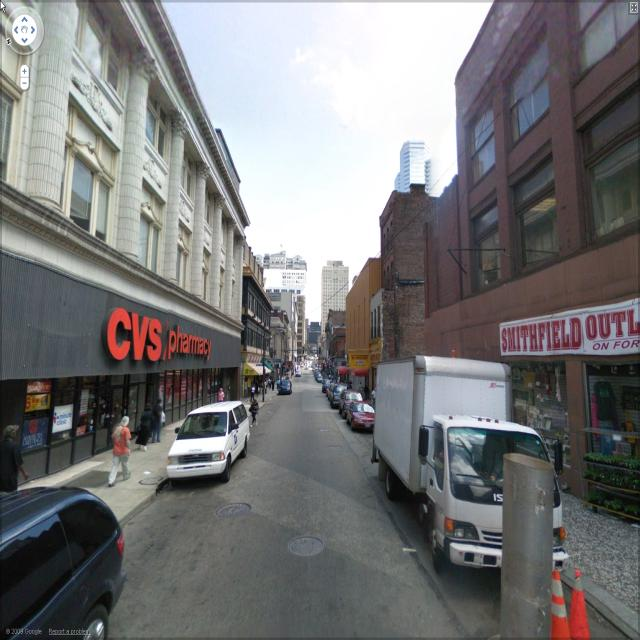b_1: (465, 3, 640, 502), (1, 6, 242, 325), (425, 174, 471, 384), (347, 253, 391, 407), (309, 247, 353, 344), (386, 139, 444, 202), (240, 257, 268, 380), (312, 314, 353, 386)
